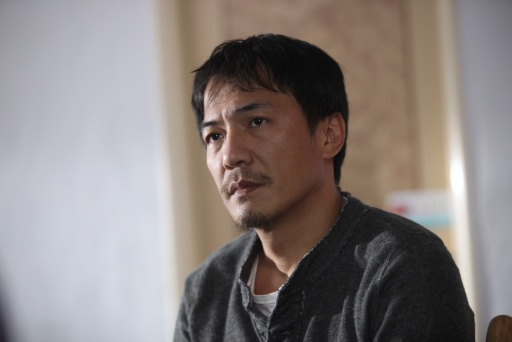male: (174, 24, 360, 239)
